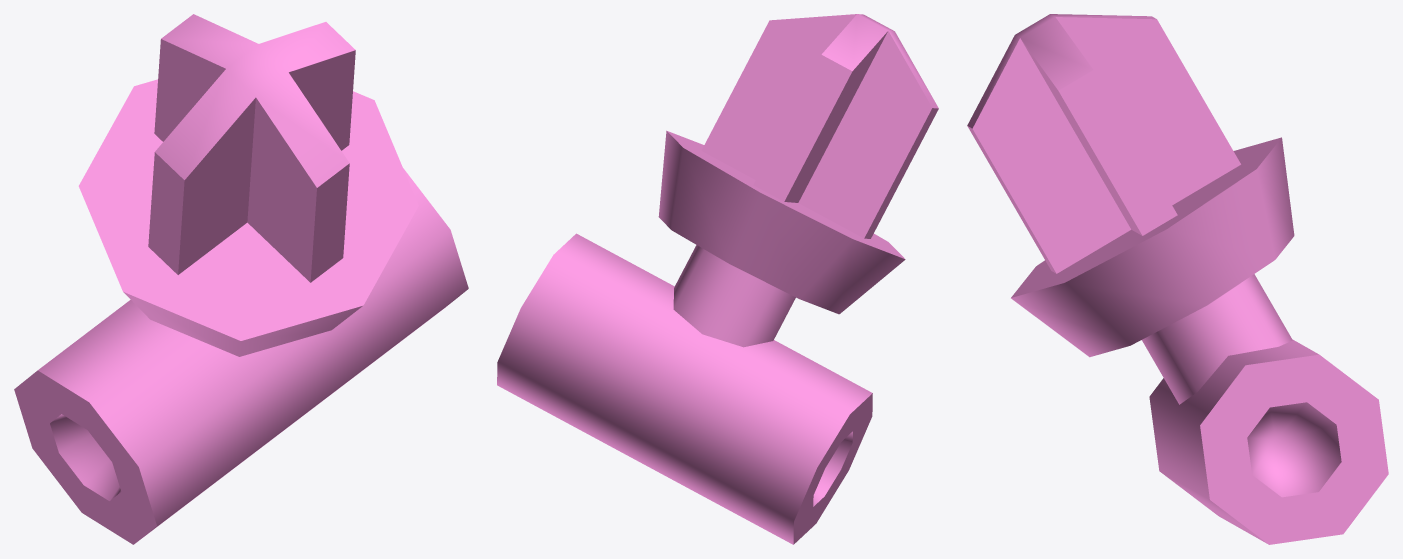
3 renders of one model, left to right at view 1: azimuth 30°, elevation 25°; view 2: azimuth 150°, elevation 25°; view 3: azimuth 270°, elevation 25°, orthographic. The views are drawn at different scales.
Visible parts, largest first — view 1: Joint_0_Object_0; view 2: Joint_0_Object_0; view 3: Joint_0_Object_0.
Boxes of the visible parts, x1,y1,x2,y2 form: Joint_0_Object_0: (14, 14, 468, 544); Joint_0_Object_0: (497, 14, 938, 544); Joint_0_Object_0: (967, 14, 1388, 544).
Bounding box in the file's own units: 279 × 363 × 269.
